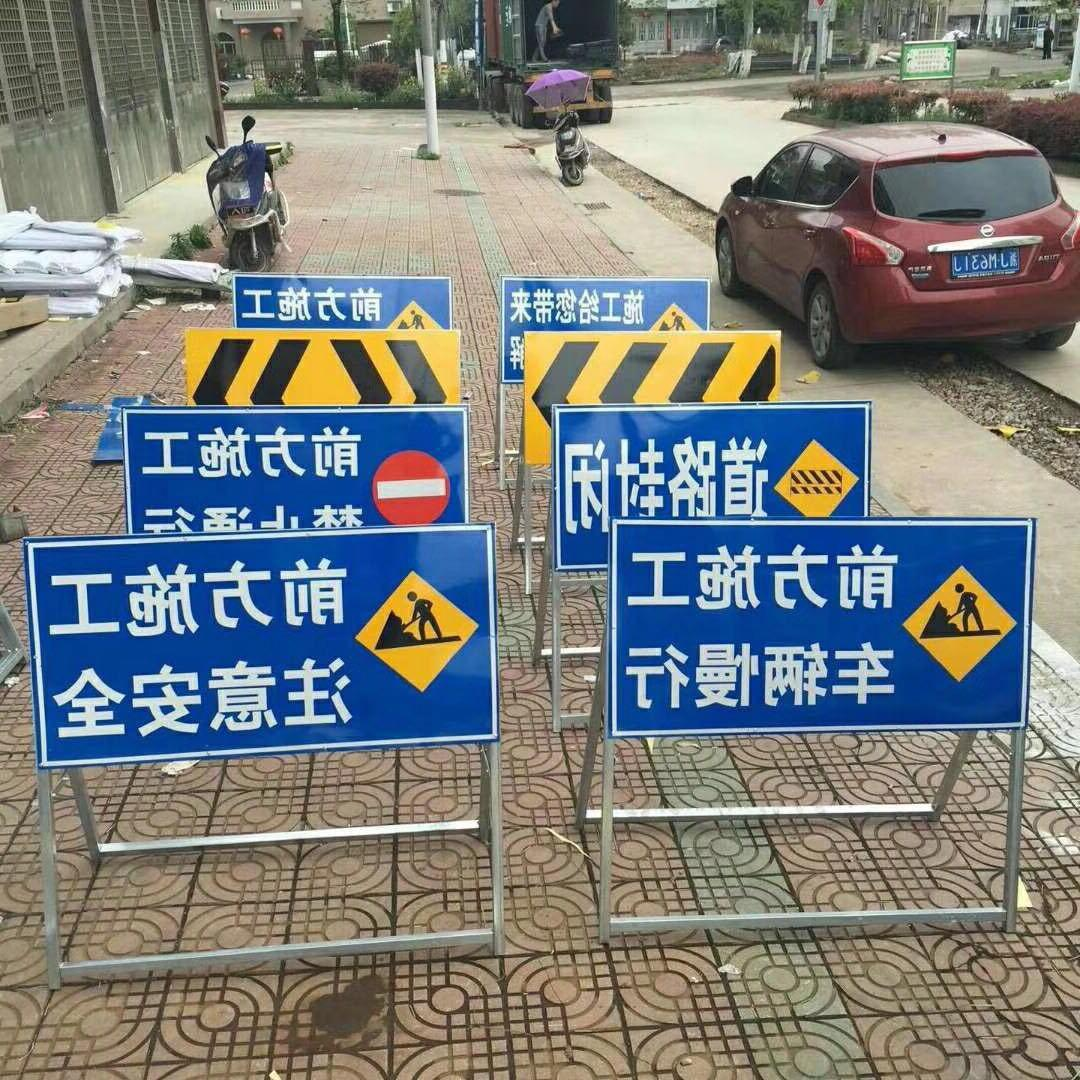sign: (29, 526, 497, 769), (606, 514, 1037, 734), (554, 405, 868, 565), (126, 414, 469, 527), (522, 332, 784, 452), (183, 328, 460, 416), (499, 281, 709, 381), (228, 274, 457, 337)
